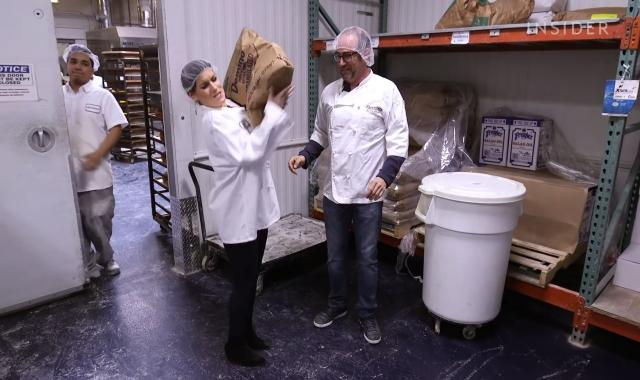hairnet: (332, 27, 379, 65), (60, 40, 100, 68), (178, 60, 214, 90)
